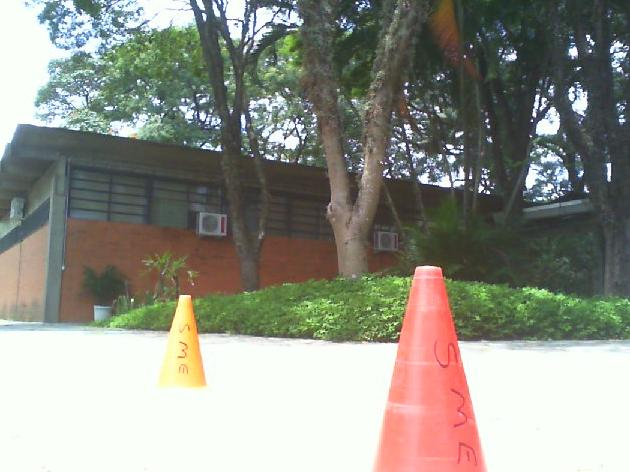0 cone: (371, 266, 488, 472), (155, 295, 208, 388)
